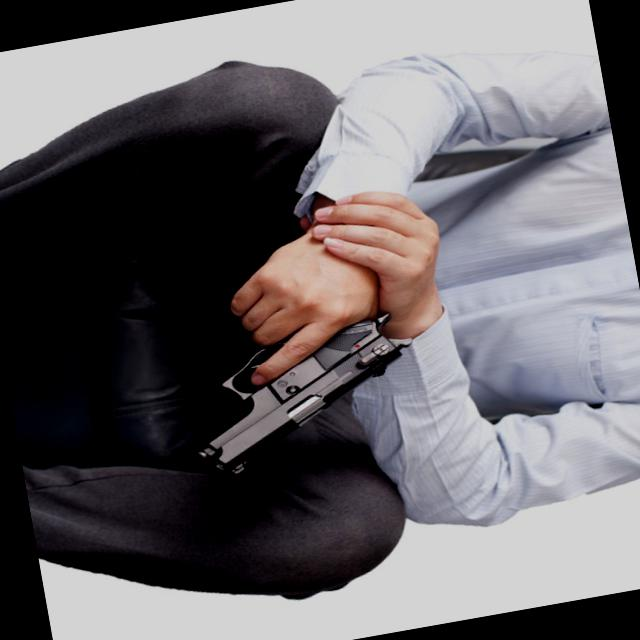handgun: (156, 220, 408, 478)
